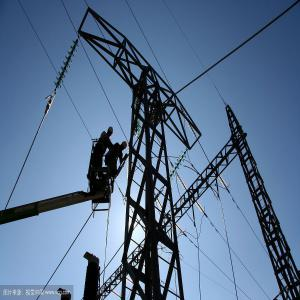white: (108, 127, 114, 137)
yellow: (122, 141, 128, 151)
